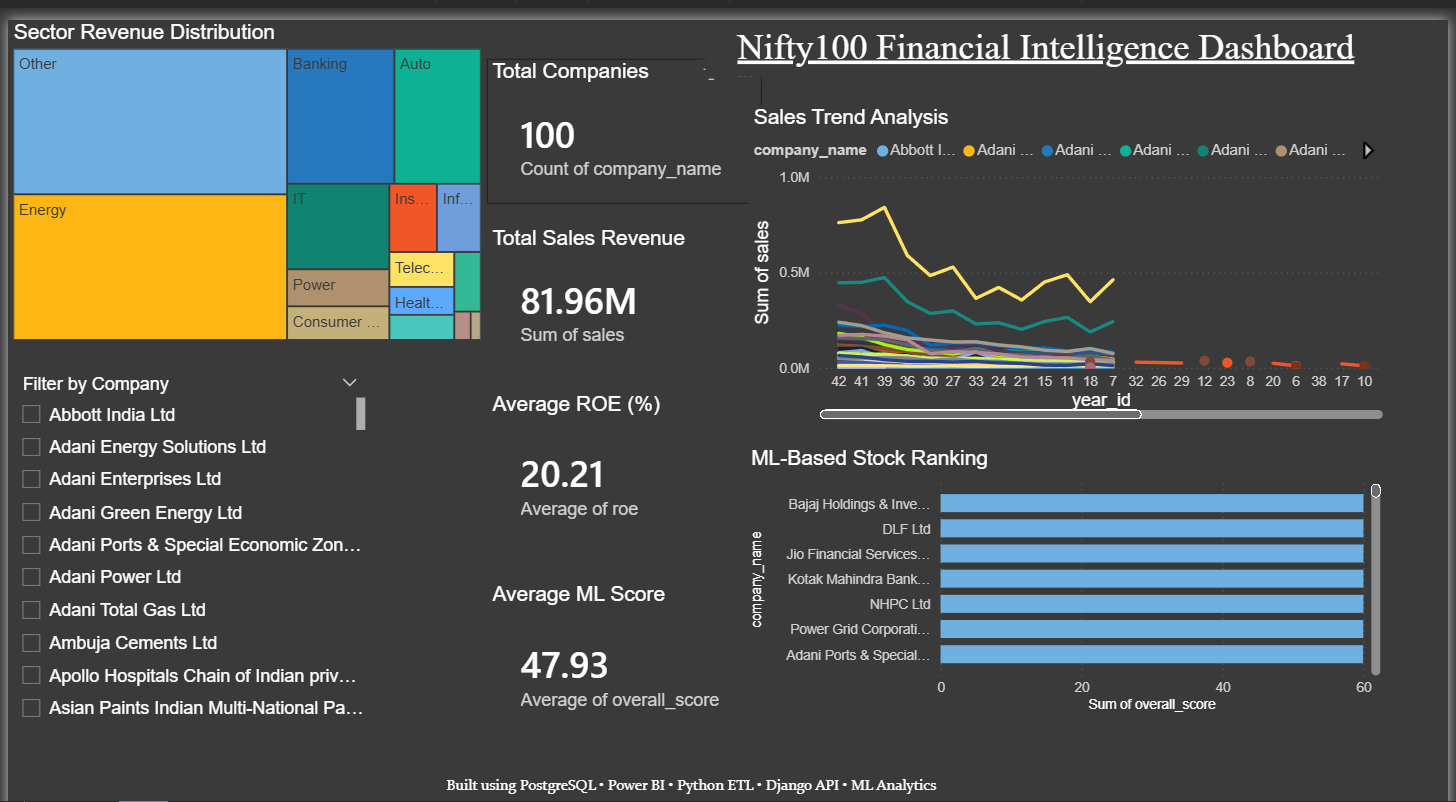

The page's visual inventory and layout, read from the dashboard file:
{"tool":"powerbi","page":{"name":"Page 1","canvas":[1280,720],"ordinal":0},"visuals":[{"type":"treemap","title":"Sector Revenue Distribution","fields":{"Group":["public dim_company.sector"],"Values":["Sum(public fact_profit_loss.sales)"]},"box":[0,0,425.4,289.5],"z":0},{"type":"slicer","fields":{"Values":["public dim_company.company_name"]},"box":[0,310.1,322.5,321.1],"z":1000},{"type":"cardVisual","title":"Total Sales Revenue","fields":{"Data":["Sum(public fact_profit_loss.sales)"]},"box":[425.4,183.9,194.9,126.2],"z":2000},{"type":"cardVisual","title":"Total Companies","fields":{"Data":["Count(public dim_company.company_name)"]},"box":[425.4,34.3,244.3,129],"z":3000},{"type":"cardVisual","title":"Average ROE (%)","fields":{"Data":["Avg(public dim_company.roe)"]},"box":[425.4,330.7,168.8,140],"z":4000},{"type":"cardVisual","title":"Average ML Score","fields":{"Data":["Avg(public fact_ml_scores.overall_score)"]},"box":[425.4,499.5,244.3,141.3],"z":5000},{"type":"lineChart","title":"Sales Trend Analysis","fields":{"Y":["Sum(public fact_profit_loss.sales)"],"Category":["public fact_profit_loss.year_id"],"Series":["public dim_company.company_name"]},"box":[657.3,75.5,569.5,284],"z":6000},{"type":"clusteredBarChart","title":"ML-Based Stock Ranking","fields":{"Category":["public dim_company.company_name"],"Y":["Sum(public fact_ml_scores.overall_score)"]},"box":[655.9,378.7,569.5,241.5],"z":7000},{"type":"textbox","box":[620.2,0,605.1,50.8],"z":7001},{"type":"textbox","box":[366.4,666.9,481.6,53.5],"z":7002}]}

Visuals, with their boxes in screenshot pixels (x1, y1, x2, y2), scaled from the page's 1280x720 canvas onto the 1456x802 screenshot:
"Sector Revenue Distribution" treemap: 0, 0, 484, 322
slicer - public dim_company.company_name: 0, 345, 367, 703
"Total Sales Revenue" cardVisual: 484, 205, 706, 345
"Total Companies" cardVisual: 484, 38, 762, 182
"Average ROE (%)" cardVisual: 484, 368, 676, 524
"Average ML Score" cardVisual: 484, 556, 762, 714
"Sales Trend Analysis" lineChart: 748, 84, 1395, 400
"ML-Based Stock Ranking" clusteredBarChart: 746, 422, 1394, 691
textbox: 705, 0, 1394, 57
textbox: 417, 743, 965, 801
